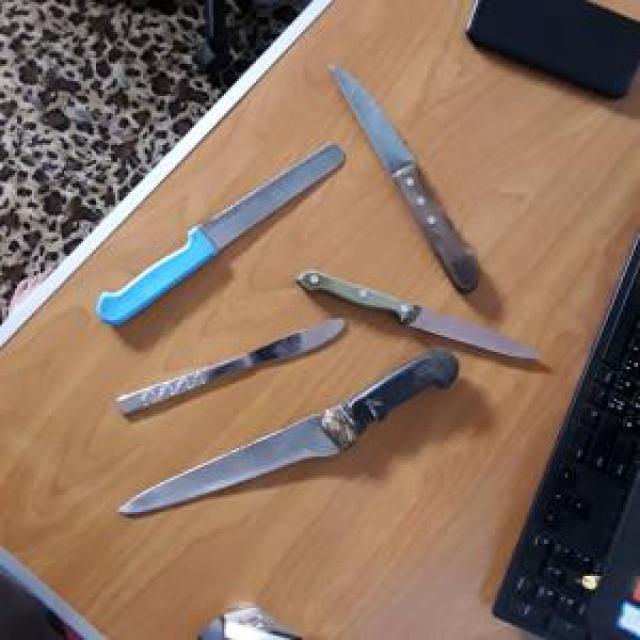knife: (113, 346, 472, 524), (92, 136, 351, 335), (320, 51, 487, 303), (294, 258, 552, 367), (113, 309, 349, 427)
